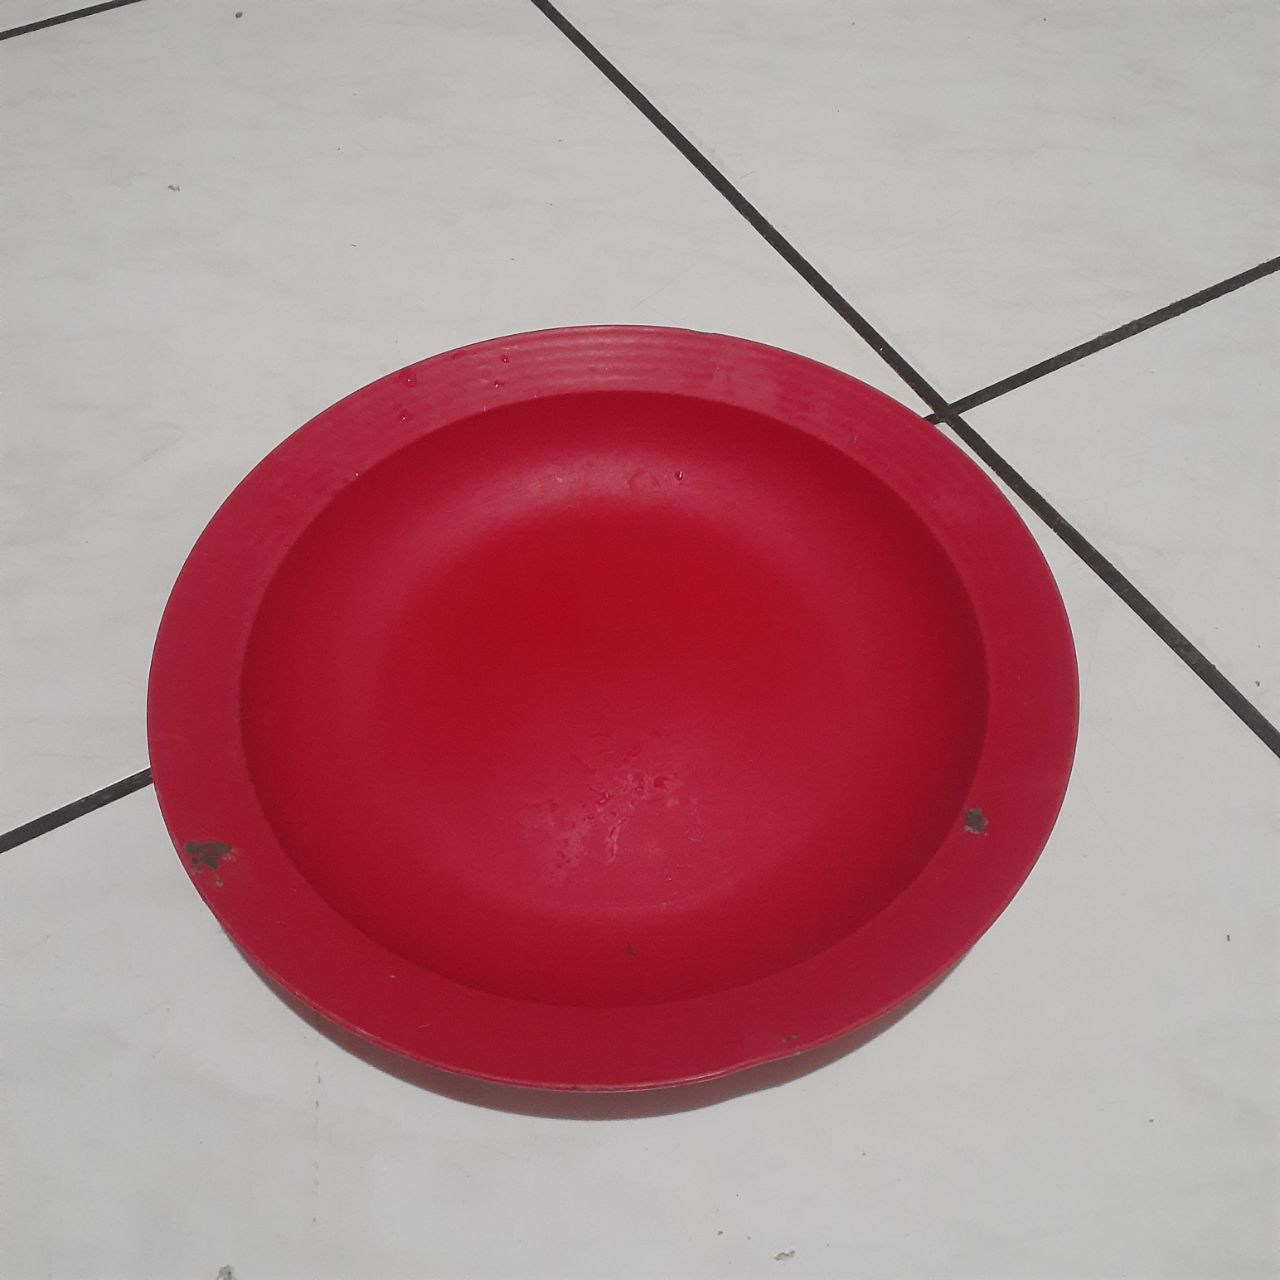piring: (131, 318, 1087, 1099)
